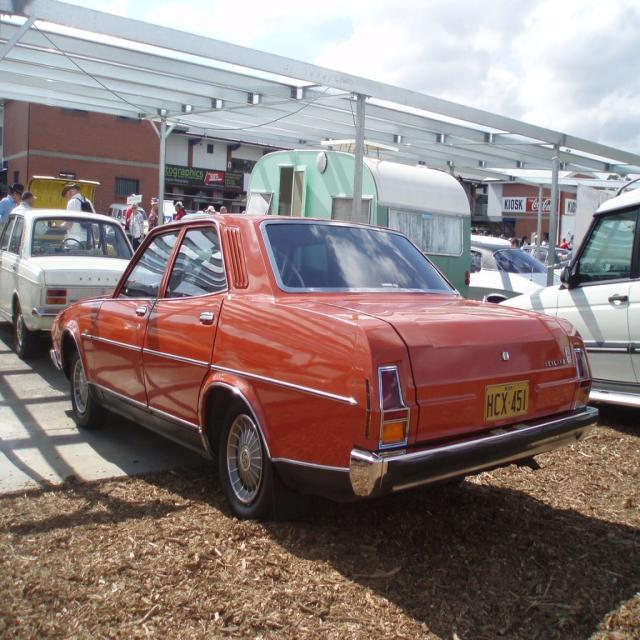car: (48, 214, 604, 518)
